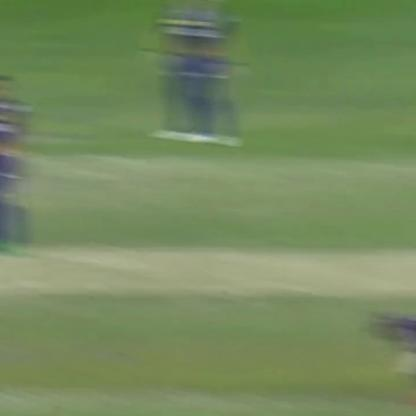pitch: (3, 229, 415, 316)
